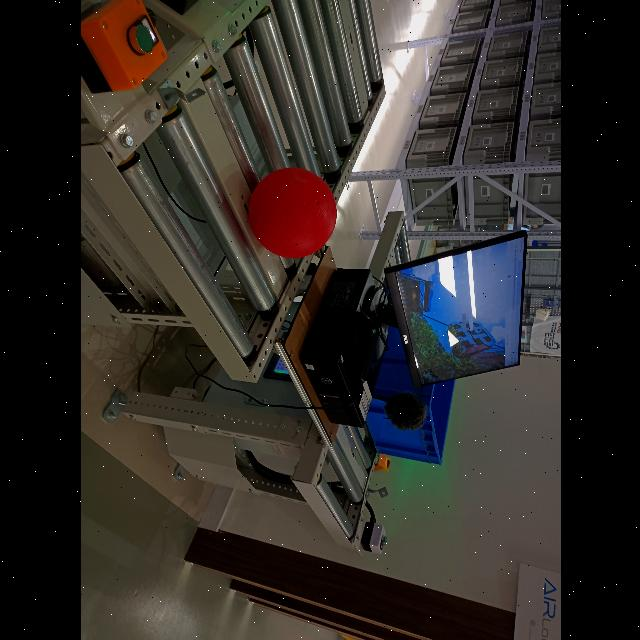R: (247, 168, 336, 258)
